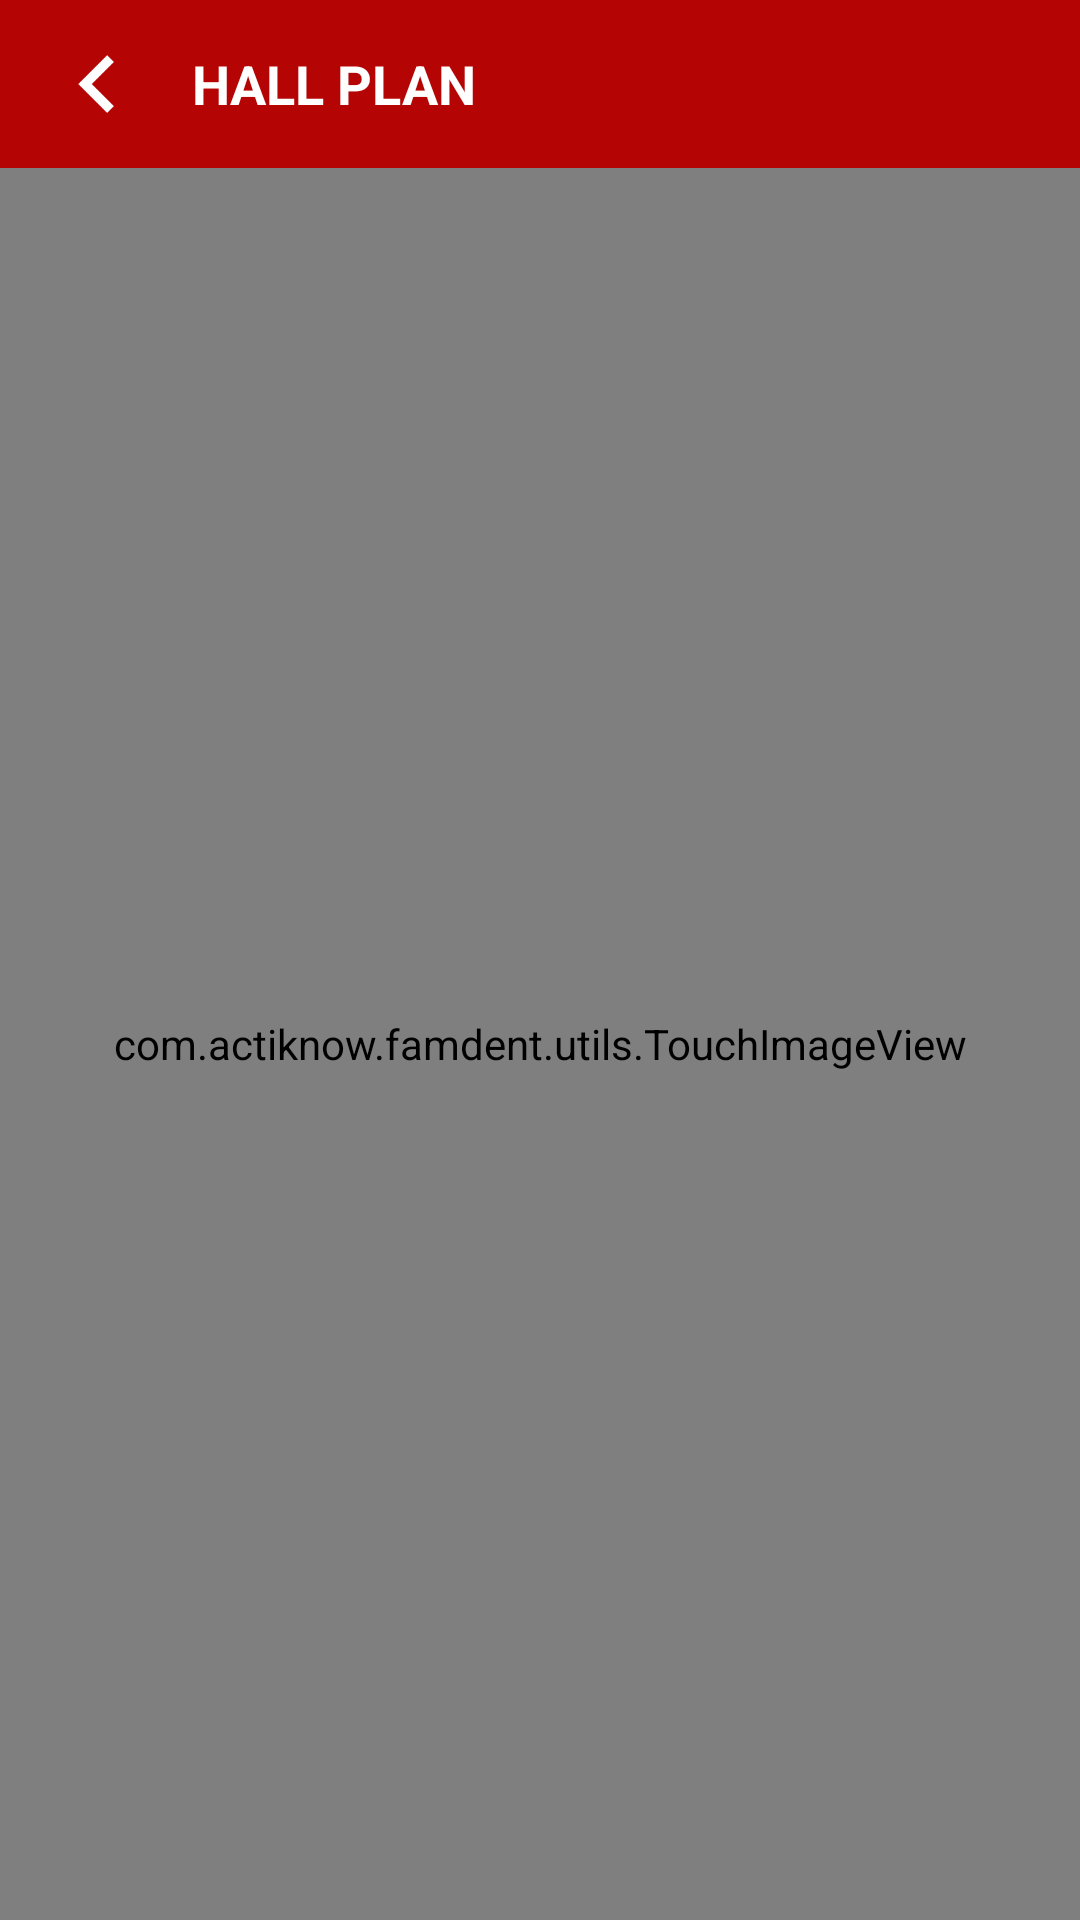

Icon click points for this 1080*1920 phone screenshot, format (x=x, y=y):
back: (x=96, y=84)
